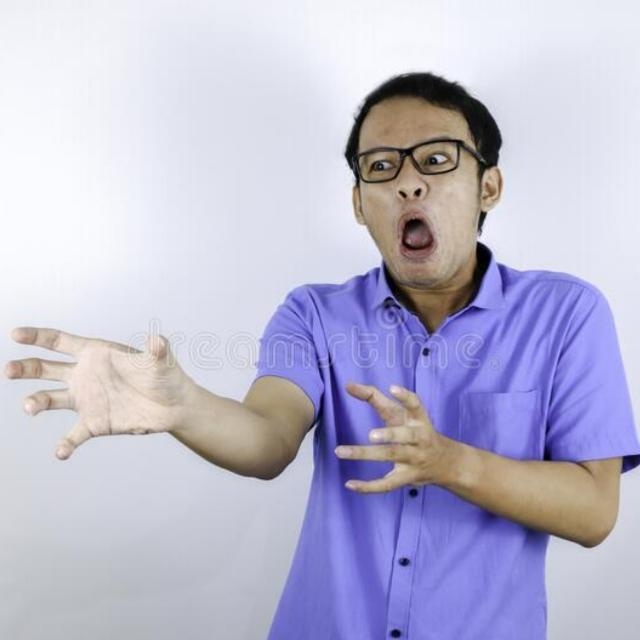Angry: (242, 51, 576, 342)
